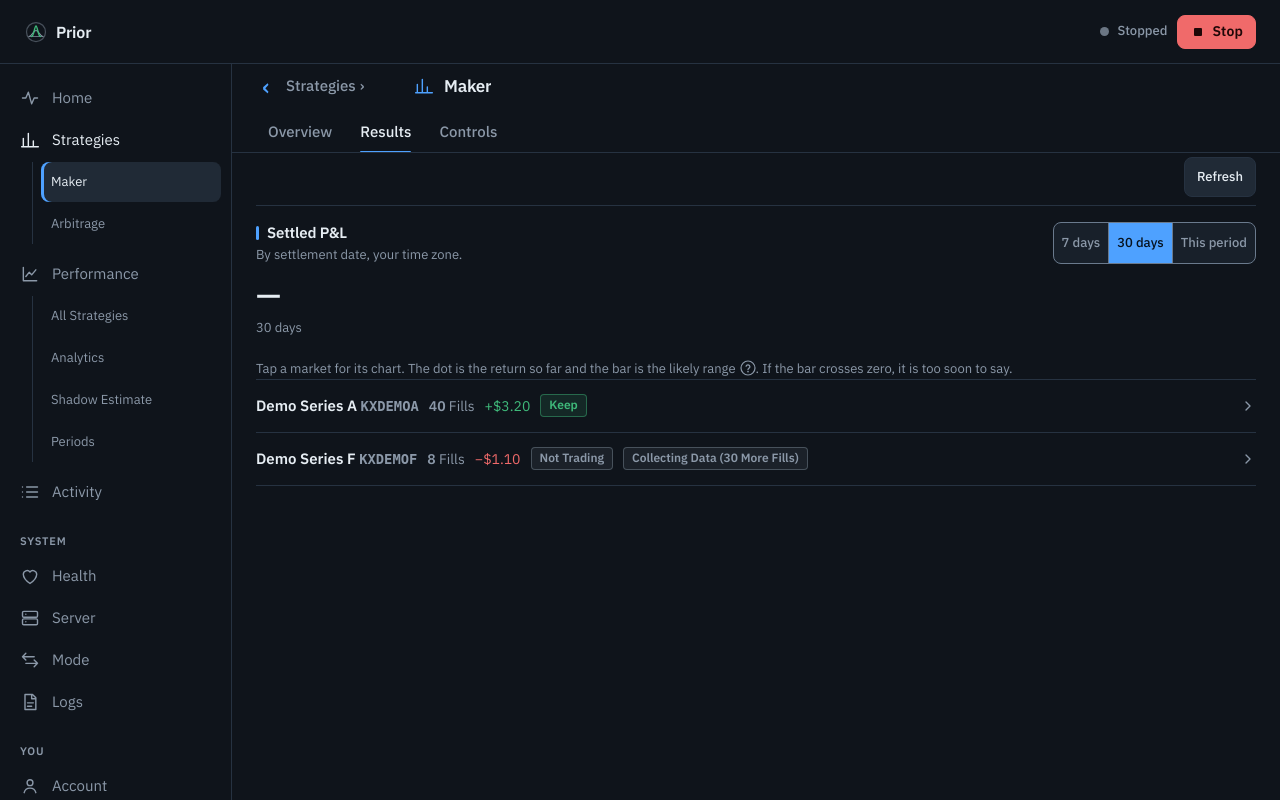
Test: Markets cards › open folded: name, fills, P&L and verdict; no chart, axis or key until a card is opened
The width and height of the screenshot is (1280, 800).
Check: the number of elements with test id "ci-explainer" is 1, box [256,360,1012,377]
What coordinates should you click on to do the following:
click the button "Demo Series A KXDEMOA 40 Fills +$3.20 Keep"
I would click on:
 (307, 405)
Its box is [256,380,1256,432].
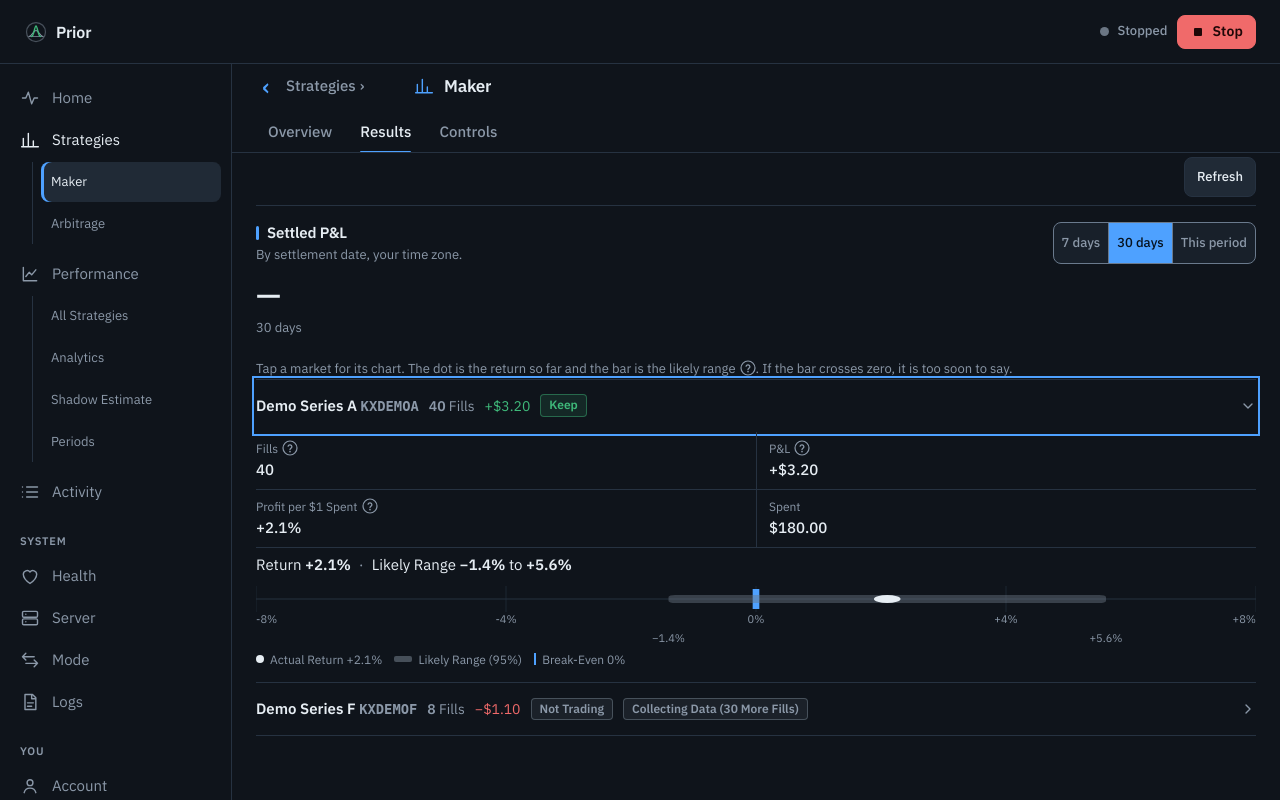
Check: the element with test id "ci-summary" shows "Return +2.1%", box [256,555,572,574]
Check: the element with test id "ci-summary" shows "Likely Range −1.4% to +5.6%", box [256,555,572,574]
Check: the element with test id "ci-bar-scale" is shown, box [256,614,1256,629]
